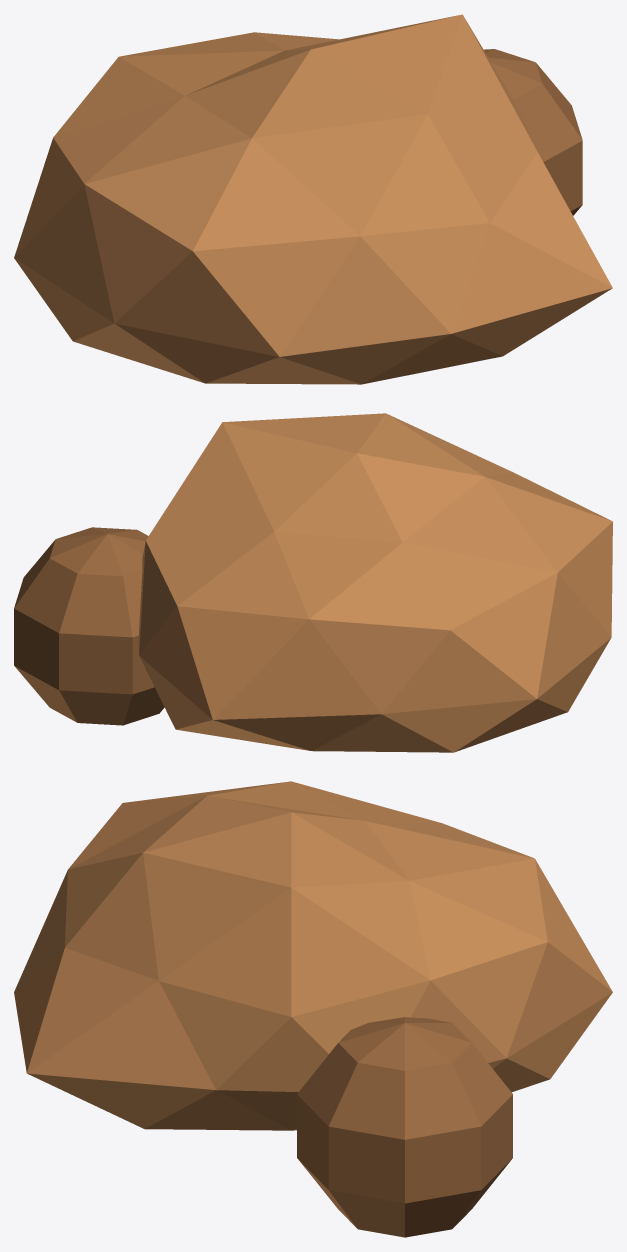
Rendered from rock.glb.
3 renders of one model, top to bottom at view 1: azimuth 30°, elevation 25°; view 2: azimuth 150°, elevation 25°; view 3: azimuth 270°, elevation 25°, orthographic. The views are drawn at different scales.
Visible parts, largest first — view 1: rock_mesh; view 2: rock_mesh; view 3: rock_mesh.
Part boxes in pixels (box(x1,y1,x2,y2)): rock_mesh: box(14, 14, 612, 384); rock_mesh: box(14, 413, 612, 752); rock_mesh: box(14, 781, 612, 1237).
Bounding box in the file's own units: 2.29 × 1.2 × 2.11.
